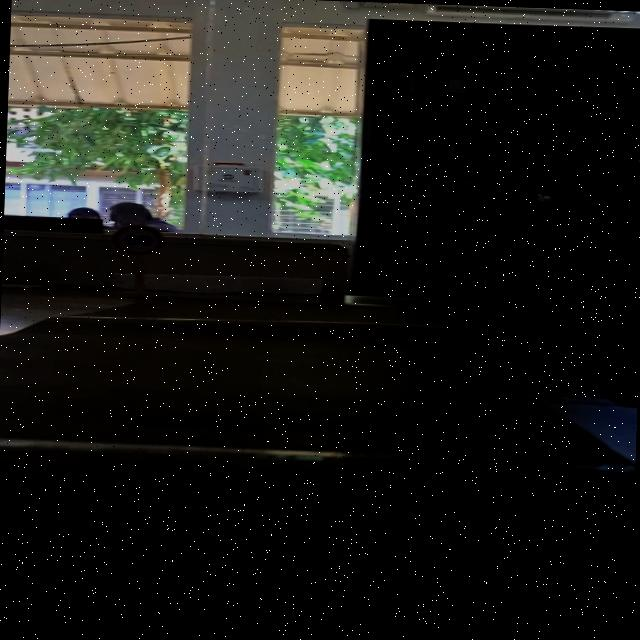Speed60: (108, 222, 166, 256)
